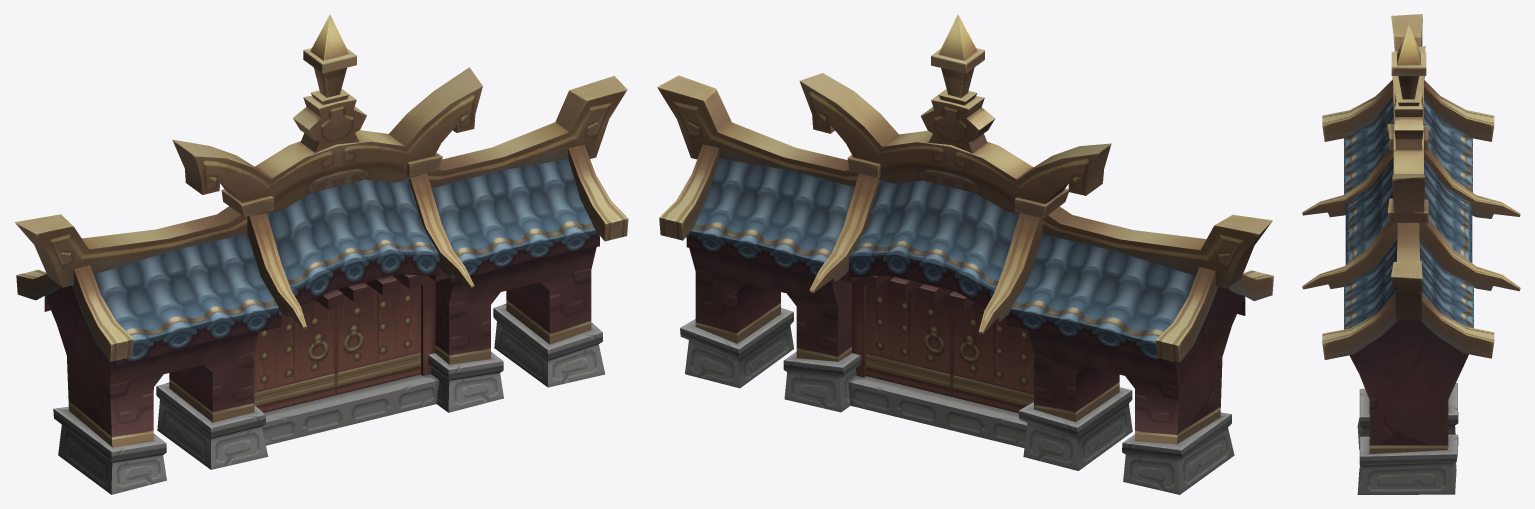
File: door1.FBX
3 renders of one model, left to right at view 1: azimuth 30°, elevation 25°; view 2: azimuth 150°, elevation 25°; view 3: azimuth 270°, elevation 25°, orthographic. The views are drawn at different scales.
Visible parts, largest first — view 1: jc_weiqiang_01; view 2: jc_weiqiang_01; view 3: jc_weiqiang_01.
Boxes of the visible parts, box(x1,y1,x2,y2) form: jc_weiqiang_01: box(14, 14, 628, 494); jc_weiqiang_01: box(657, 14, 1273, 494); jc_weiqiang_01: box(1302, 14, 1520, 494).
Size of the model in its own units: 245 by 156 by 85.47.
1 material, 1 textured.
